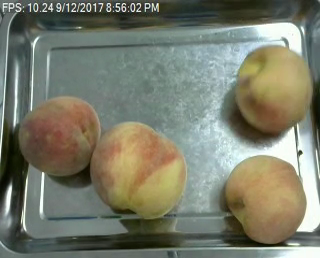Peach: (89, 121, 185, 219), (223, 155, 307, 243), (234, 44, 312, 133), (17, 94, 100, 176)
